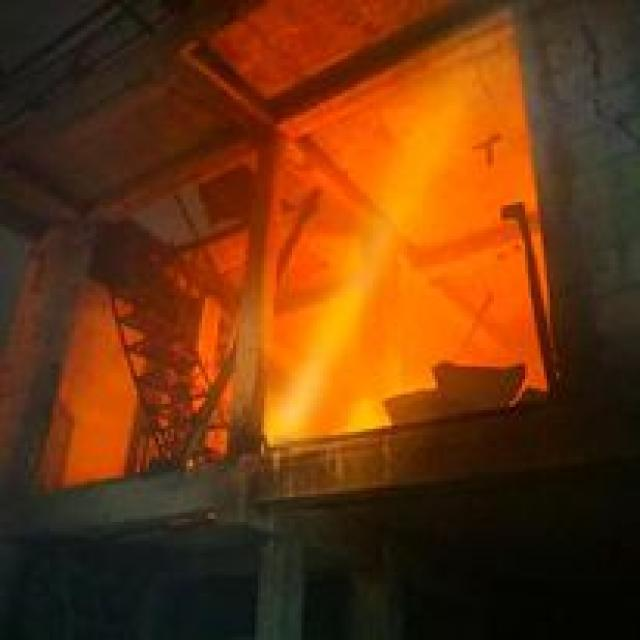Fire: (281, 161, 478, 441)
